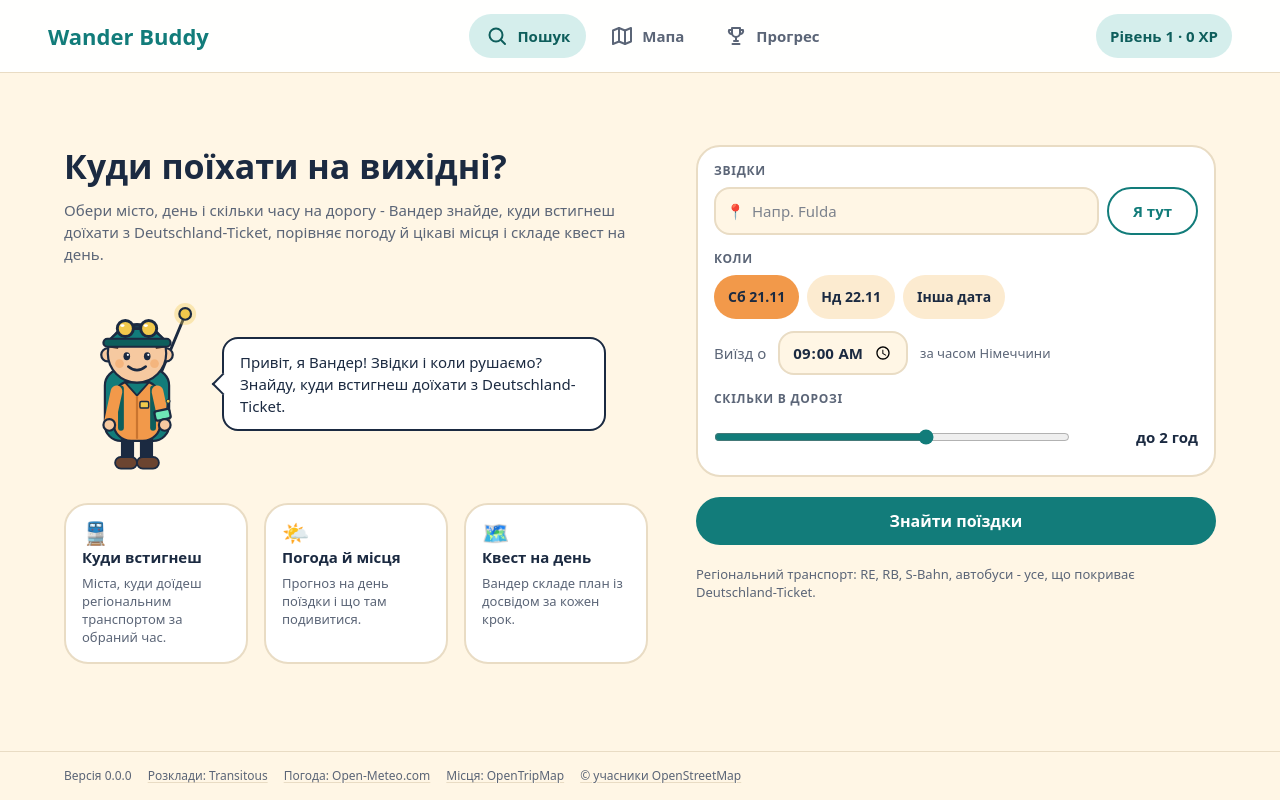
Scenario: search screen › asks where from instead of searching for nothing
The width and height of the screenshot is (1280, 800).
Click the button "Знайти поїздки" at {"x": 956, "y": 521}, box [696,497,1216,545]
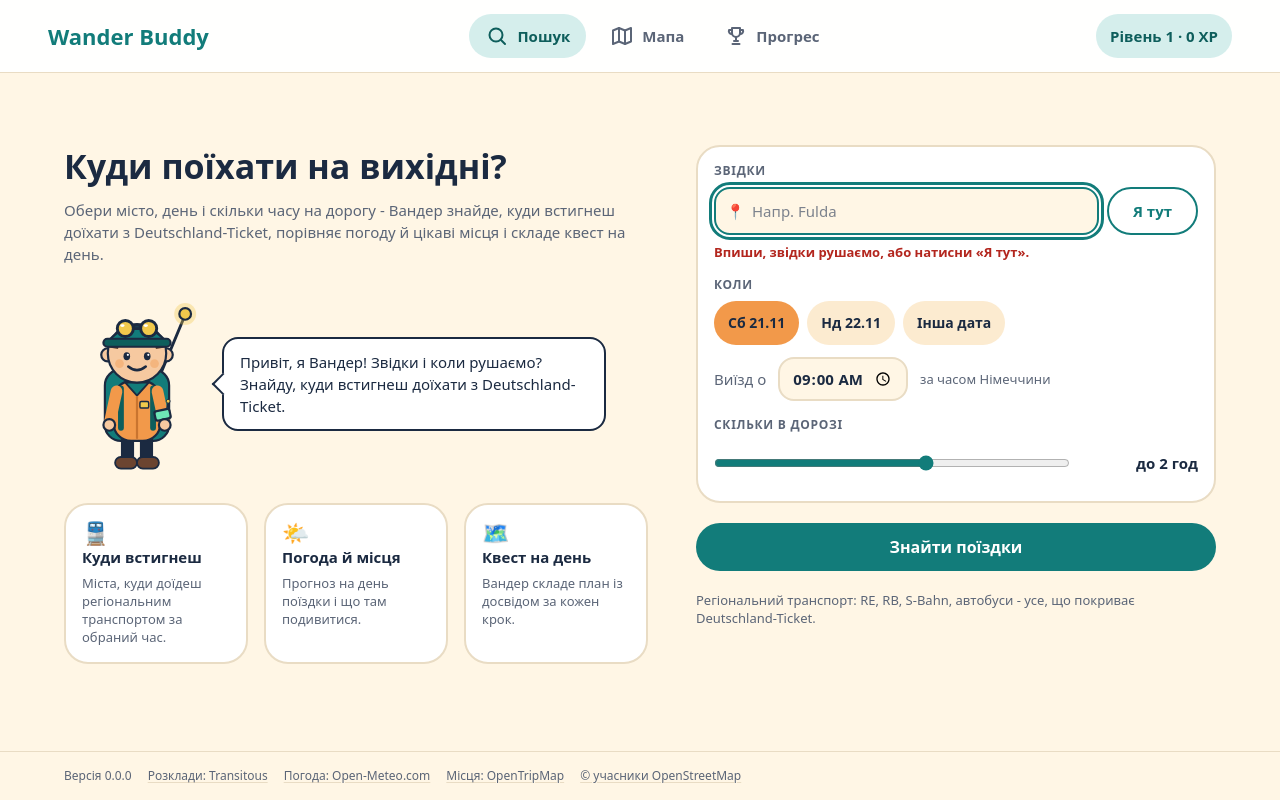
Now the message shows "Впиши, звідки рушаємо", box [714,243,1029,261]
